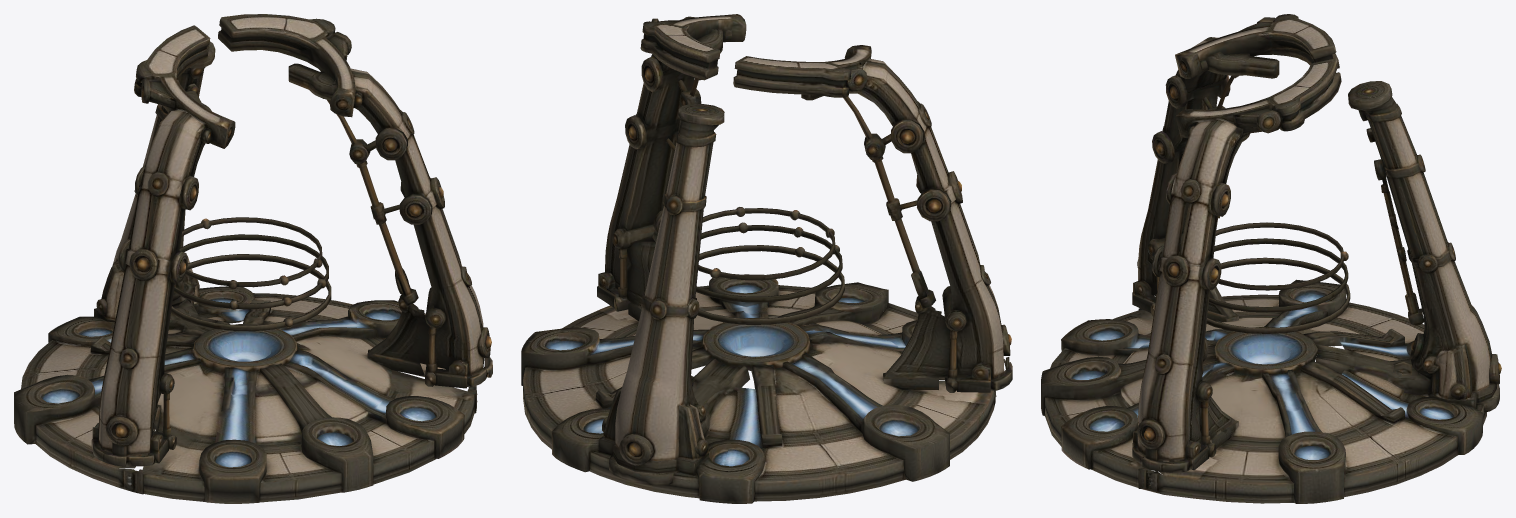
The model's file is knowledge-ark-launcher-post-launch.glb.
3 views of the same model, side by side, from view 1: azimuth 30°, elevation 25°; view 2: azimuth 150°, elevation 25°; view 3: azimuth 270°, elevation 25° (orthographic). The views are drawn at different scales.
Visible parts, largest first — view 1: tripo_18aaf1cb_00d5_4e24_b804_5ea78e461fab; view 2: tripo_18aaf1cb_00d5_4e24_b804_5ea78e461fab; view 3: tripo_18aaf1cb_00d5_4e24_b804_5ea78e461fab.
Part boxes in pixels (left/top/right/bottom): tripo_18aaf1cb_00d5_4e24_b804_5ea78e461fab: left=14, top=14, right=492, bottom=503; tripo_18aaf1cb_00d5_4e24_b804_5ea78e461fab: left=521, top=14, right=1012, bottom=503; tripo_18aaf1cb_00d5_4e24_b804_5ea78e461fab: left=1041, top=14, right=1501, bottom=503.
Bounding box in the file's own units: 0.9917 × 0.9204 × 0.9995.
1 material, 1 textured.
